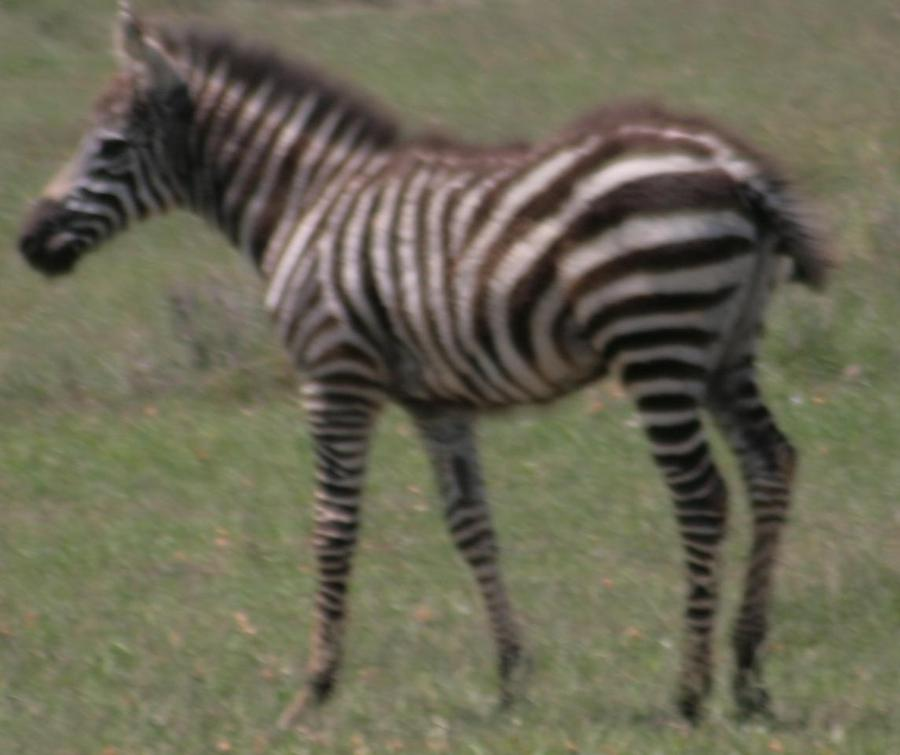zebra_plains: (258, 70, 773, 456)
